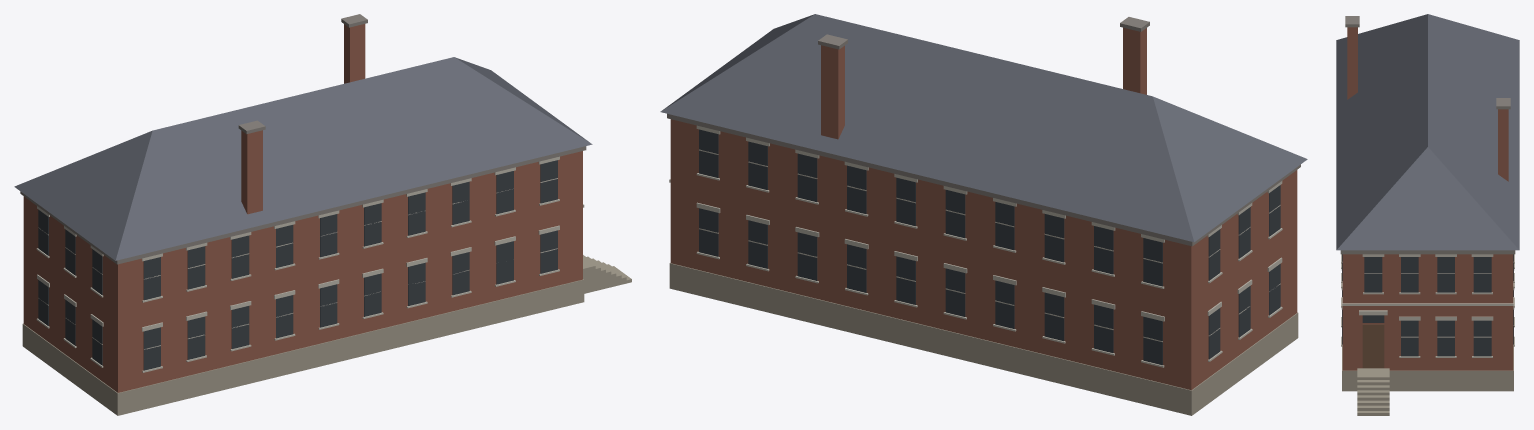
File: house_1713_indiana__draft_1904.glb
The picture shows the model from 3 angles, left to right: view 1: azimuth 30°, elevation 25°; view 2: azimuth 150°, elevation 25°; view 3: azimuth 270°, elevation 25°; orthographic projection. The views are drawn at different scales.
Visible parts, largest first — view 1: house_1713_indiana__draft_1904; view 2: house_1713_indiana__draft_1904; view 3: house_1713_indiana__draft_1904.
Boxes of the visible parts, x1,y1,x2,y2 form: house_1713_indiana__draft_1904: [14, 14, 631, 415]; house_1713_indiana__draft_1904: [660, 14, 1307, 415]; house_1713_indiana__draft_1904: [1336, 14, 1519, 415].
Size of the model in its own units: 30.65 by 13.96 by 10.2.
